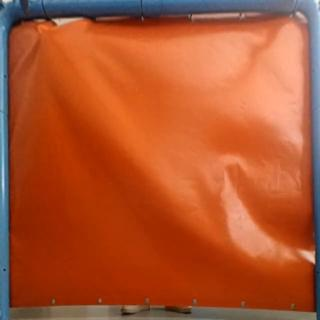Hit-hRxx: (32, 21, 50, 37)
